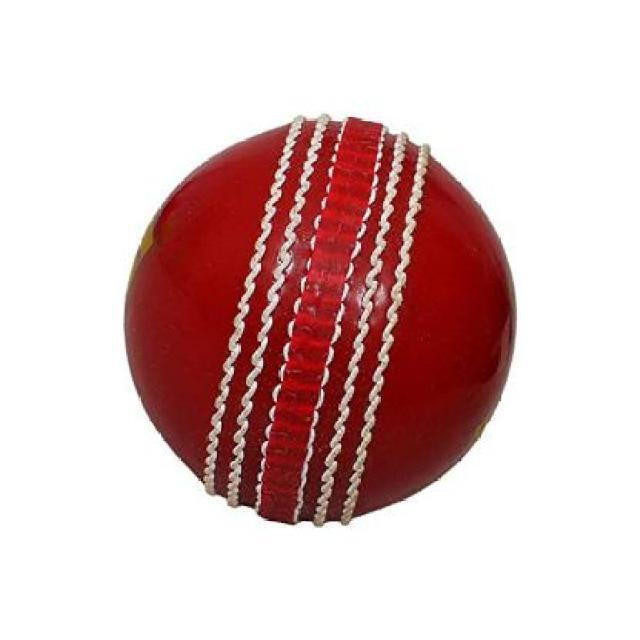ball: (98, 72, 551, 552)
